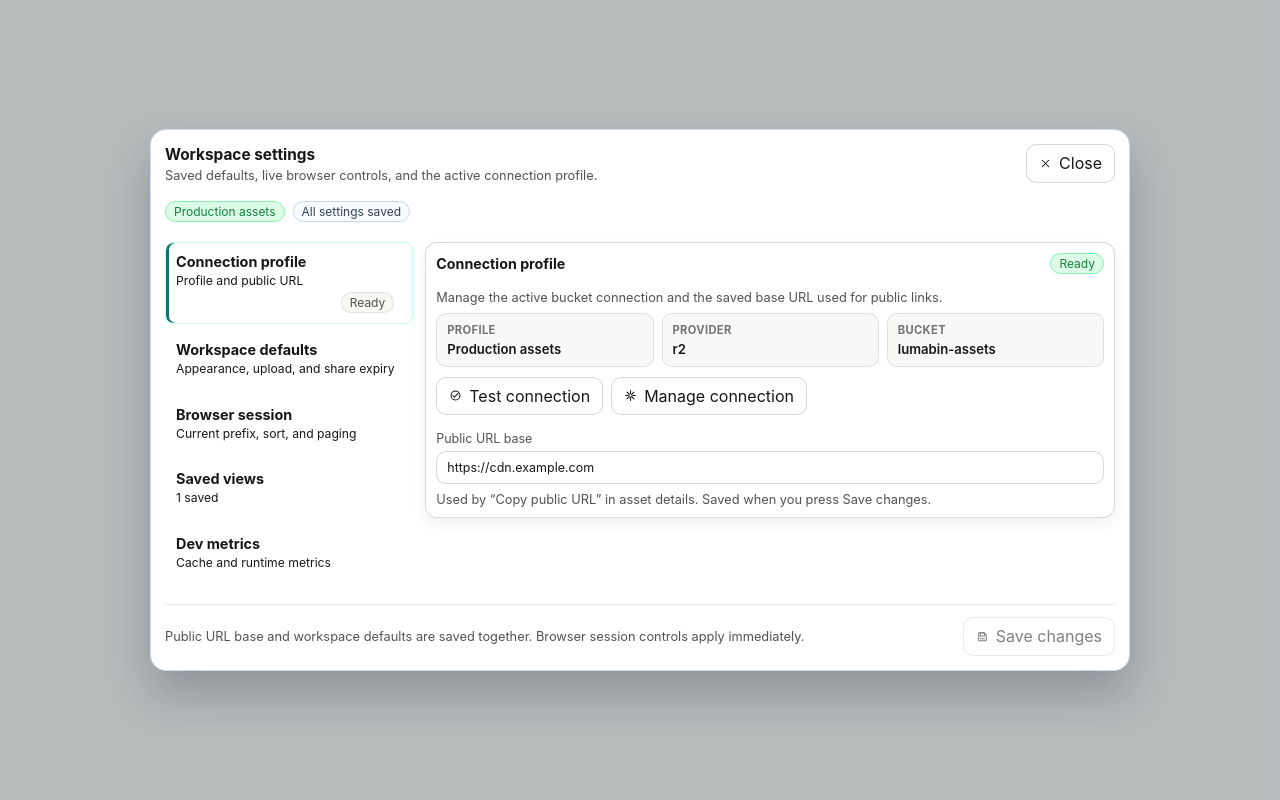
Test: WorkspaceSettingsModal › organizes settings into purpose-based sections
The image size is (1280, 800).
Check: the panel "Connection profile" is shown, box [425,242,1115,518]
Click the tab "Workspace defaults Appearance, upload, and share expiry".
click(289, 360)  # box [165,330,413,389]
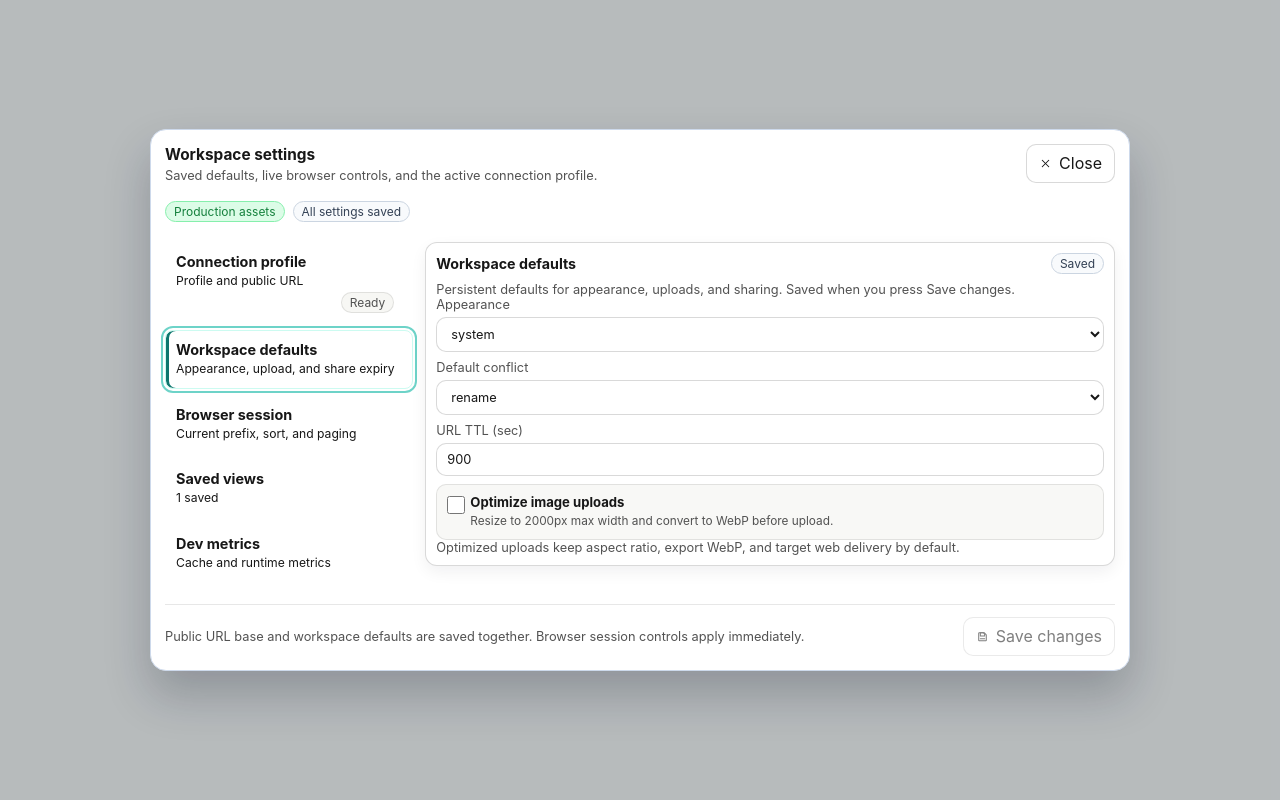
Check: the panel "Workspace defaults" is shown, box [425,242,1115,566]
Check: the heading "Workspace defaults" is shown, box [436,255,576,272]
Click the tab "Browser session Current prefix, sort, and paging".
click(289, 424)  # box [165,395,413,453]
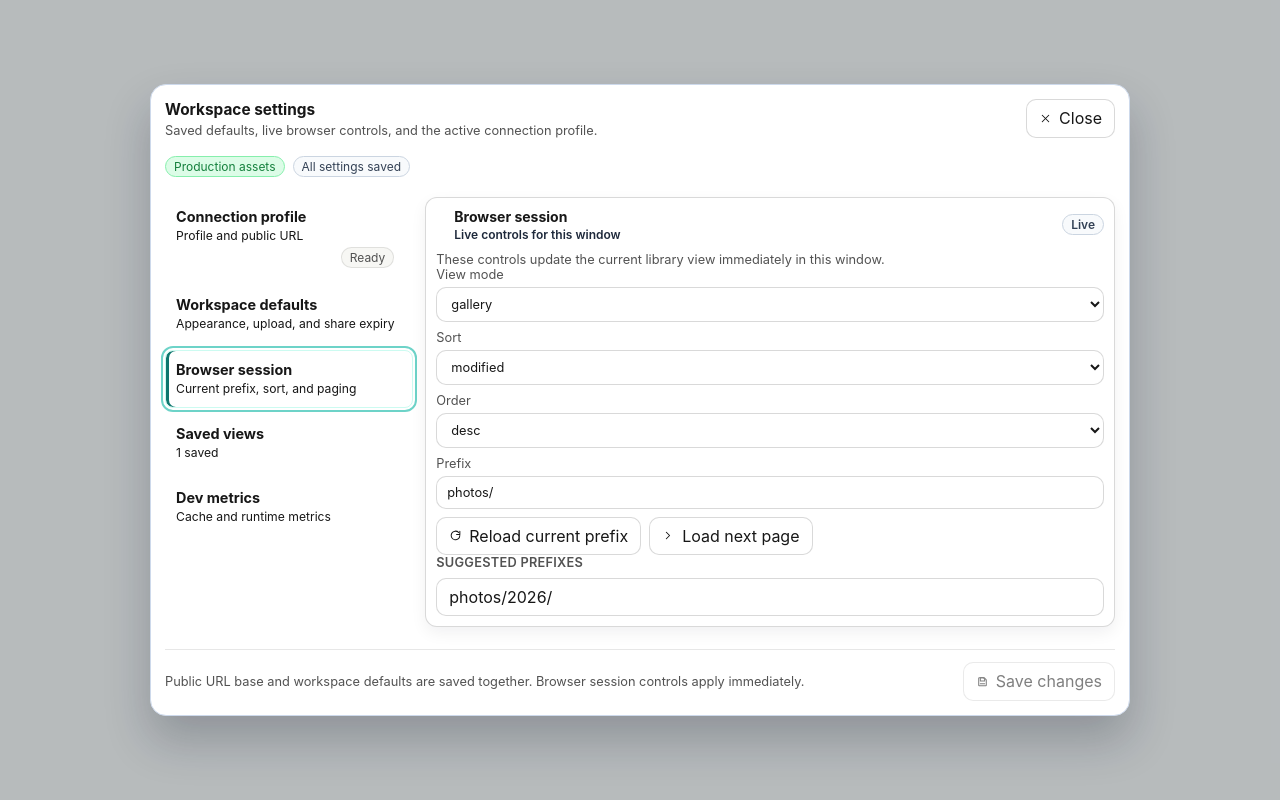
Check: the panel "Browser session" is shown, box [425,197,1115,627]
Check: the dropdown labelled "View mode" is shown, box [436,287,1104,322]
Click the tab "Saved views 1 saved".
click(289, 443)  # box [165,414,413,472]
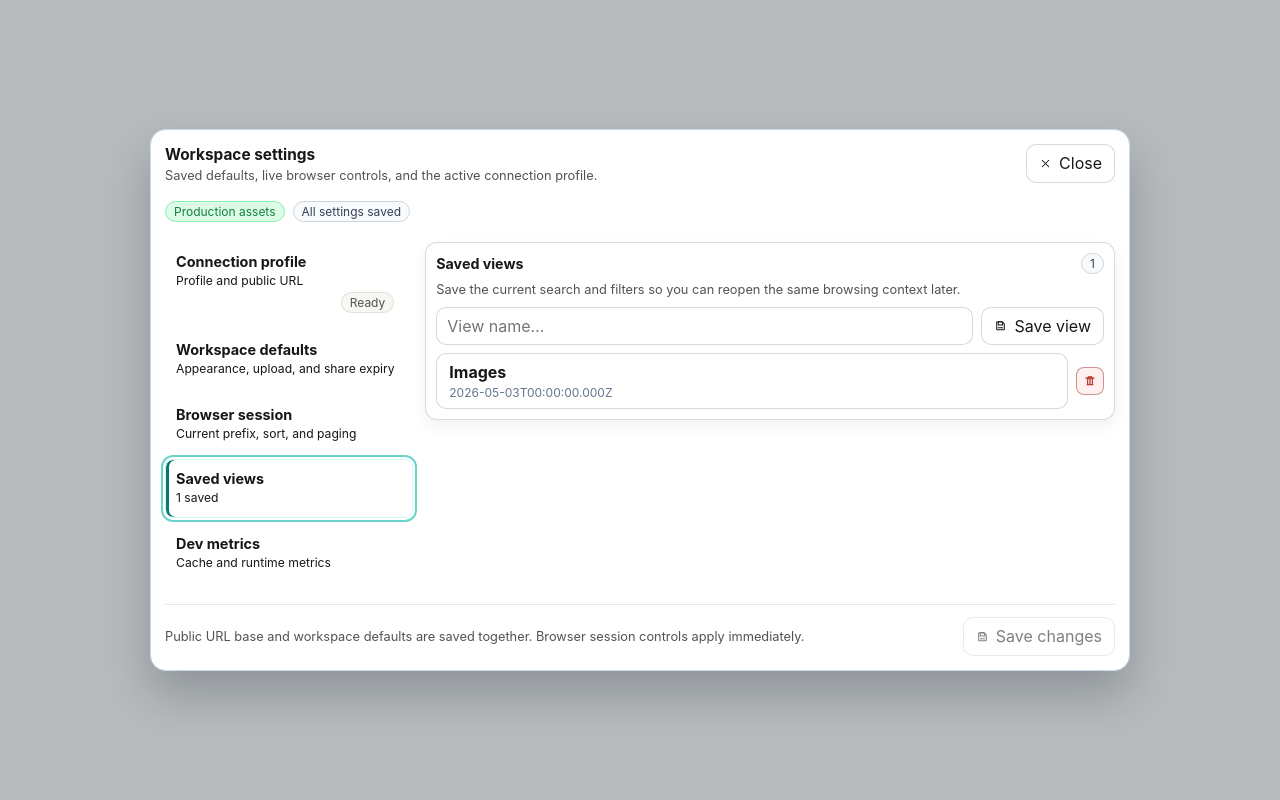
Check: the panel "Saved views" is shown, box [425,242,1115,420]
Check: the button "Save view" is shown, box [982,307,1104,346]
Click the tab "Dev metrics Cache and runtime metrics".
click(289, 553)  # box [165,524,413,582]
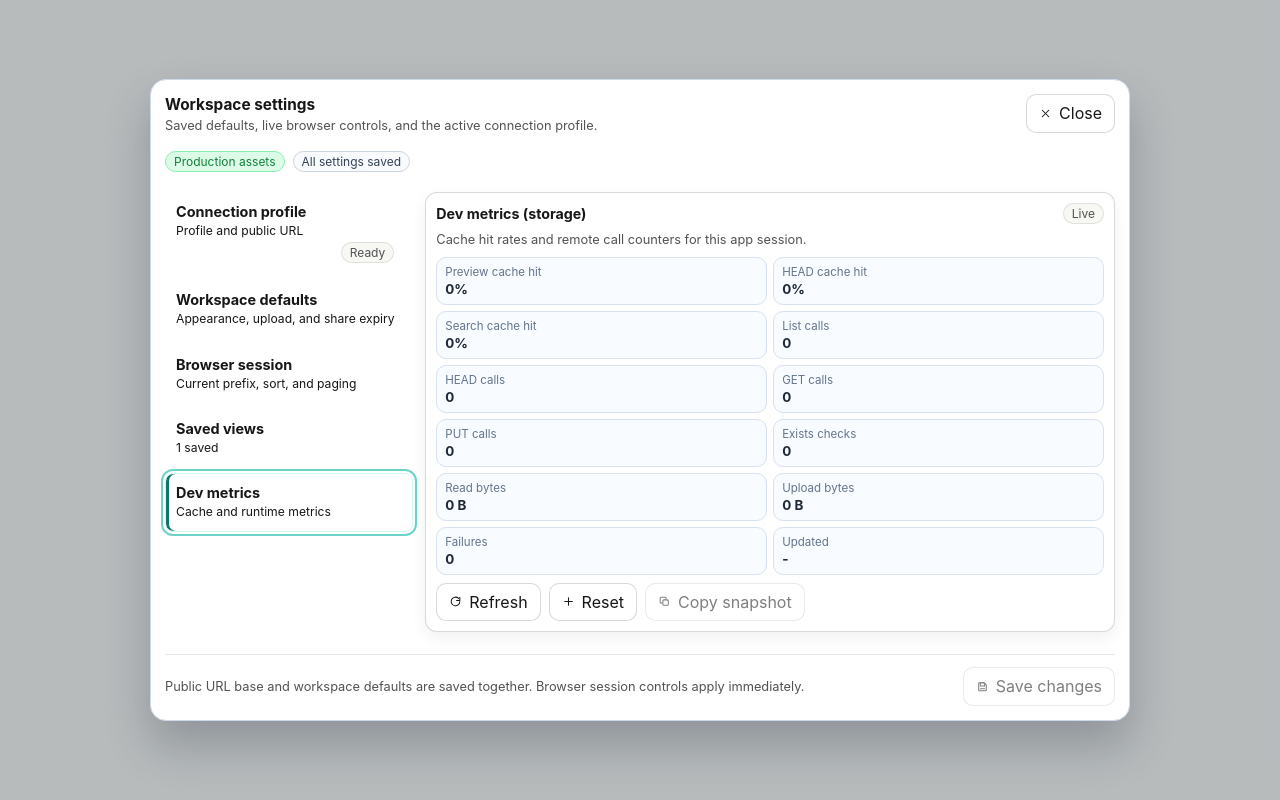
Check: the panel "Dev metrics" is shown, box [425,192,1115,632]
Check: the heading "Dev metrics (storage)" is shown, box [436,205,586,222]
Check: the button "Copy snapshot" is shown, box [645,583,805,621]
